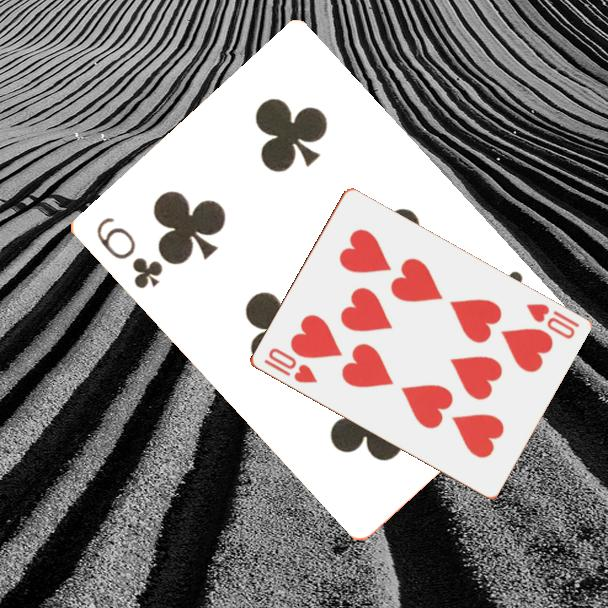c06: (92, 213, 166, 292)
h10: (260, 344, 320, 386), (522, 300, 582, 342)
